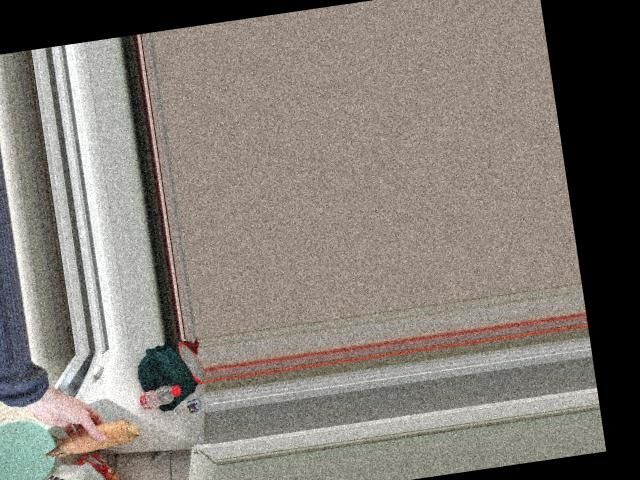sweet_potato: (47, 414, 145, 454)
